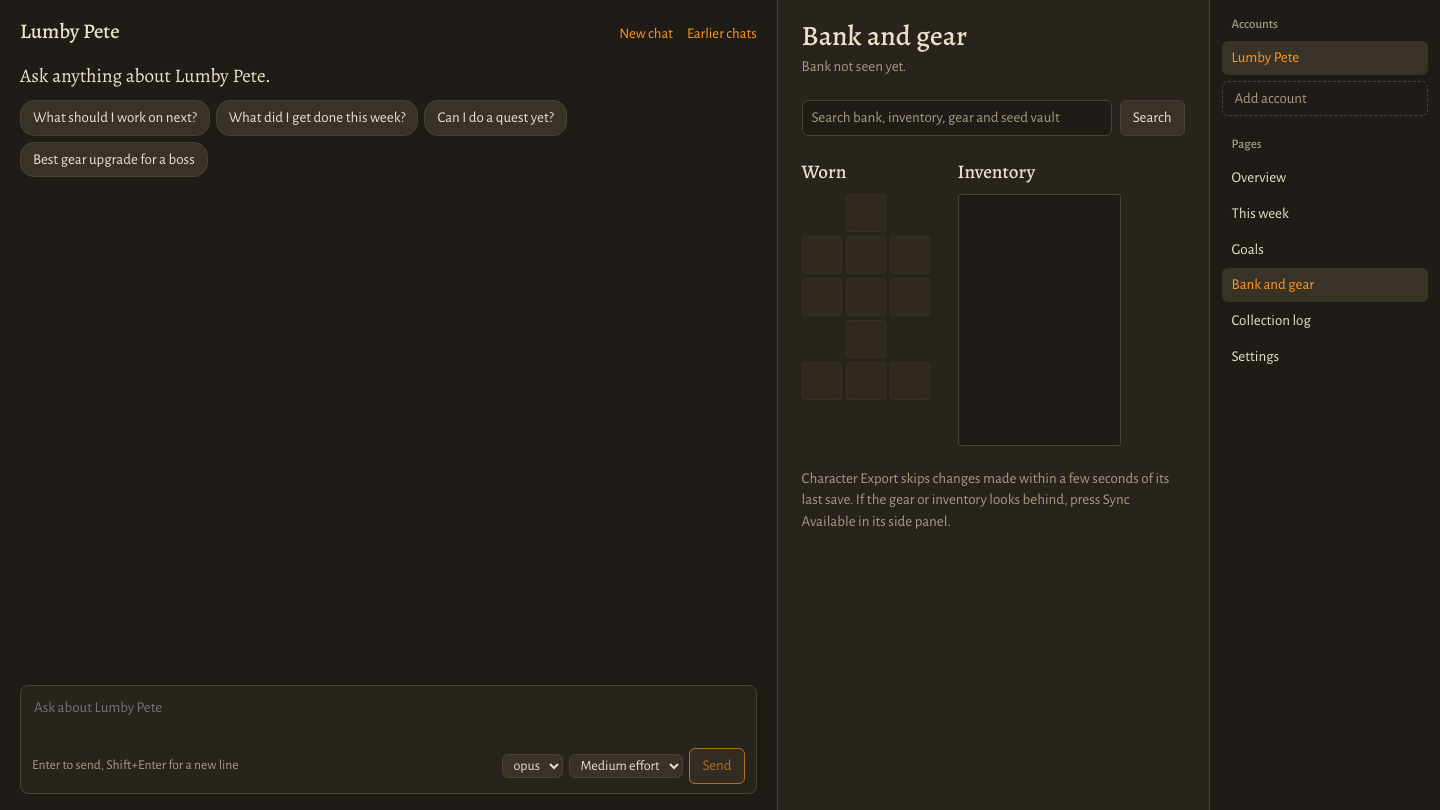
BankGear › names only the places Character Export has saved when a search finds nothing
Type "whip" into the search field at [957, 118], box left=802, top=100, right=1112, bottom=136
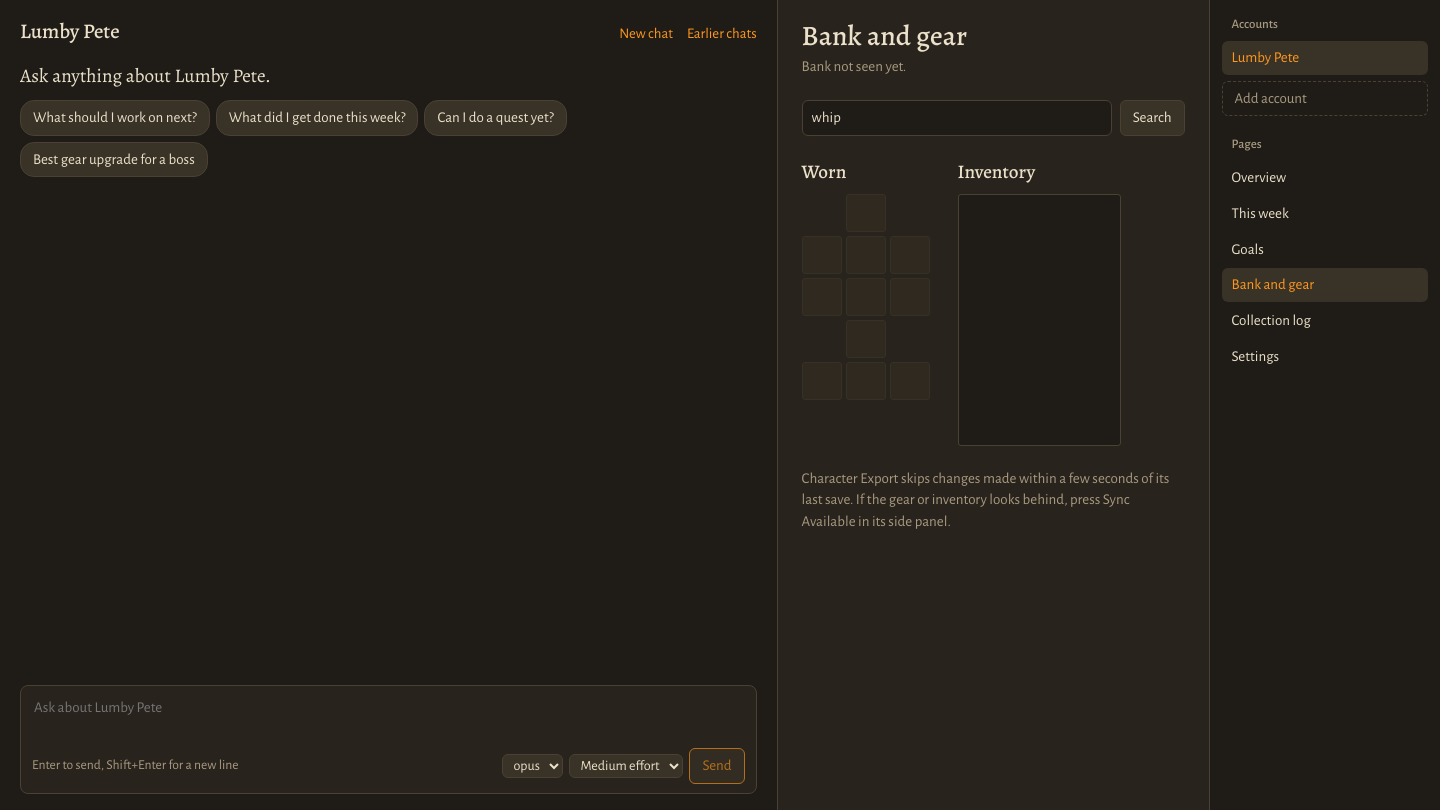
Submit the form from the search field, box left=802, top=100, right=1112, bottom=136
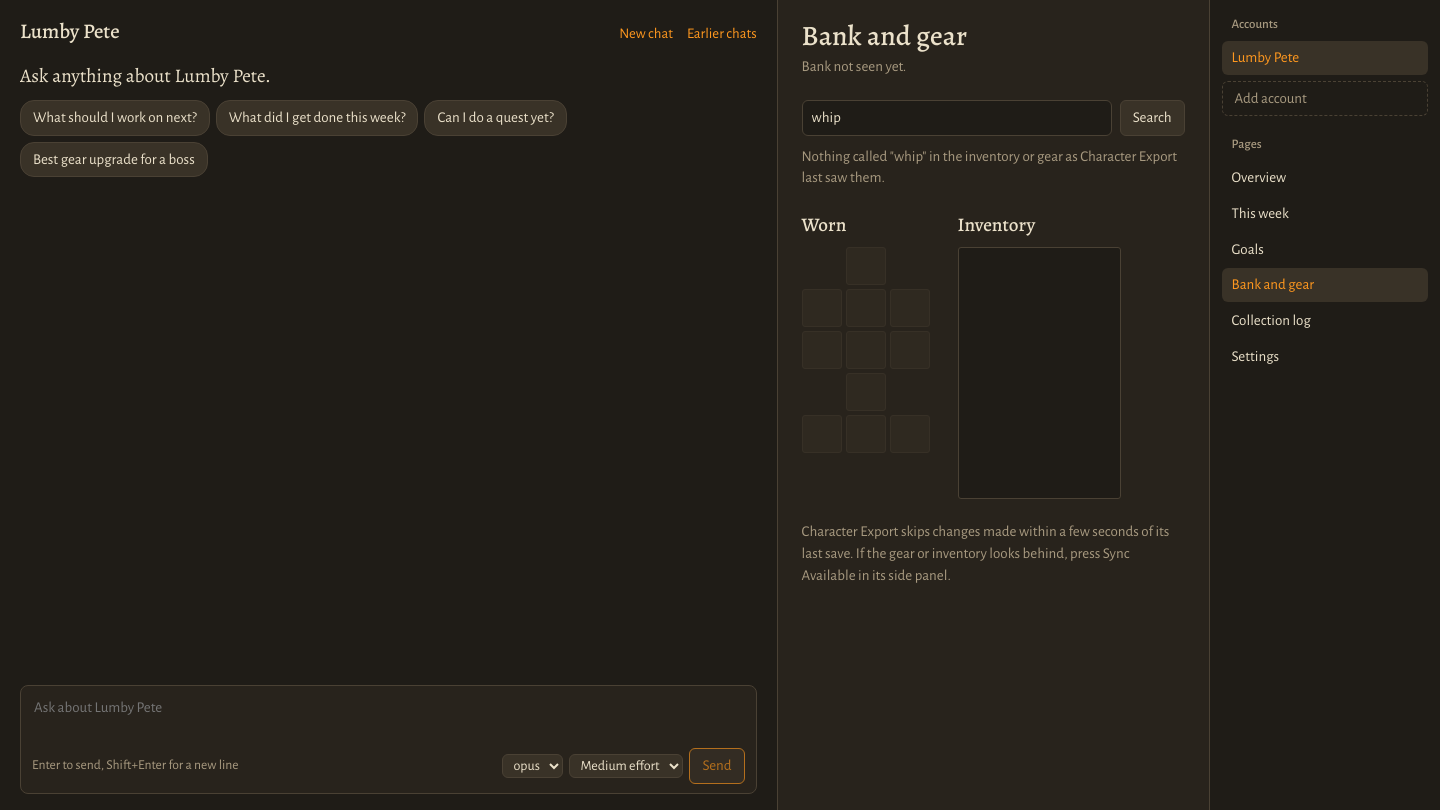
Expected: the text "Nothing called \"whip\" in the inventory or gear as Character Export last saw them." is shown, left=802, top=149, right=1177, bottom=186
Replace the text in the search field with "whips" at [957, 118], box left=802, top=100, right=1112, bottom=136
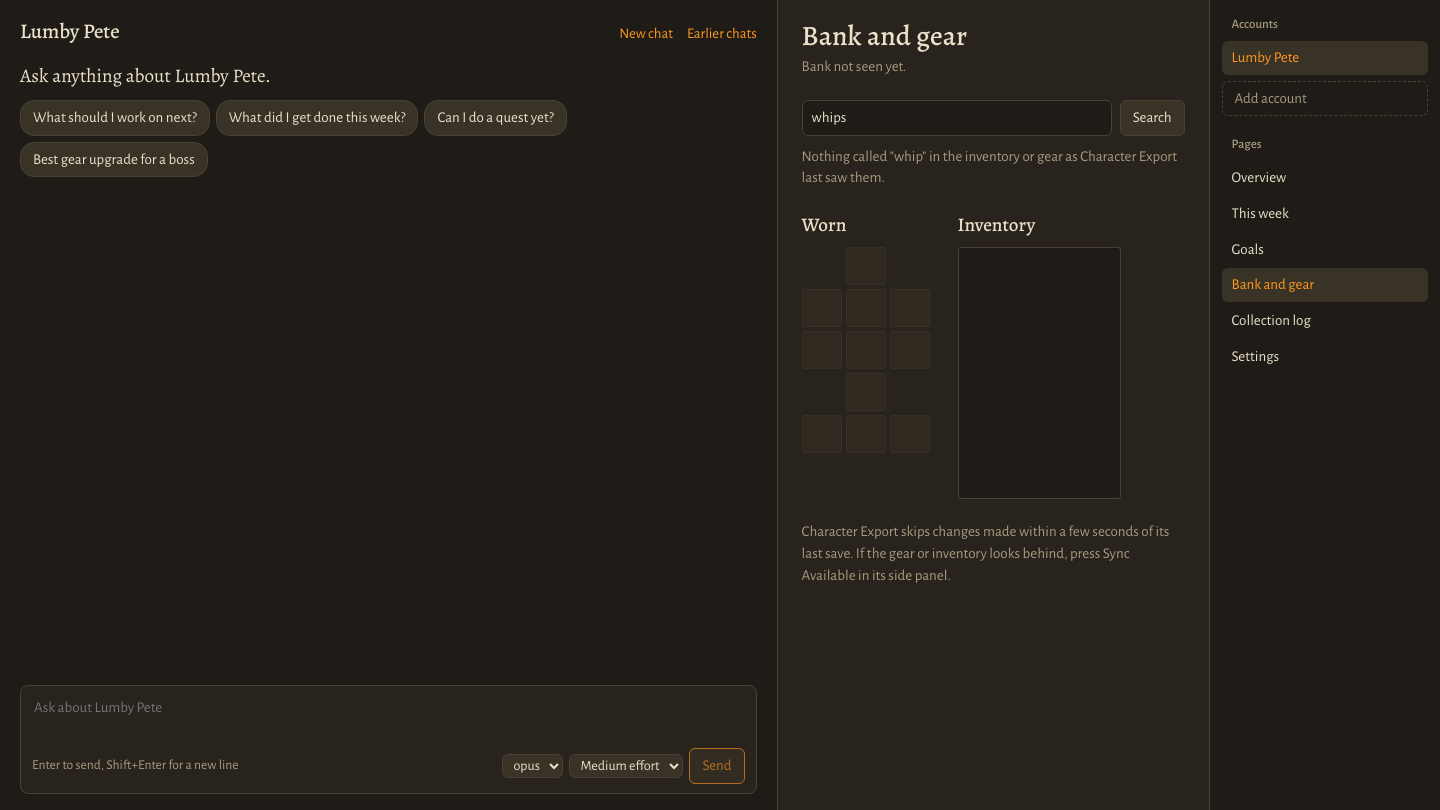
Submit the form from the search field, box left=802, top=100, right=1112, bottom=136
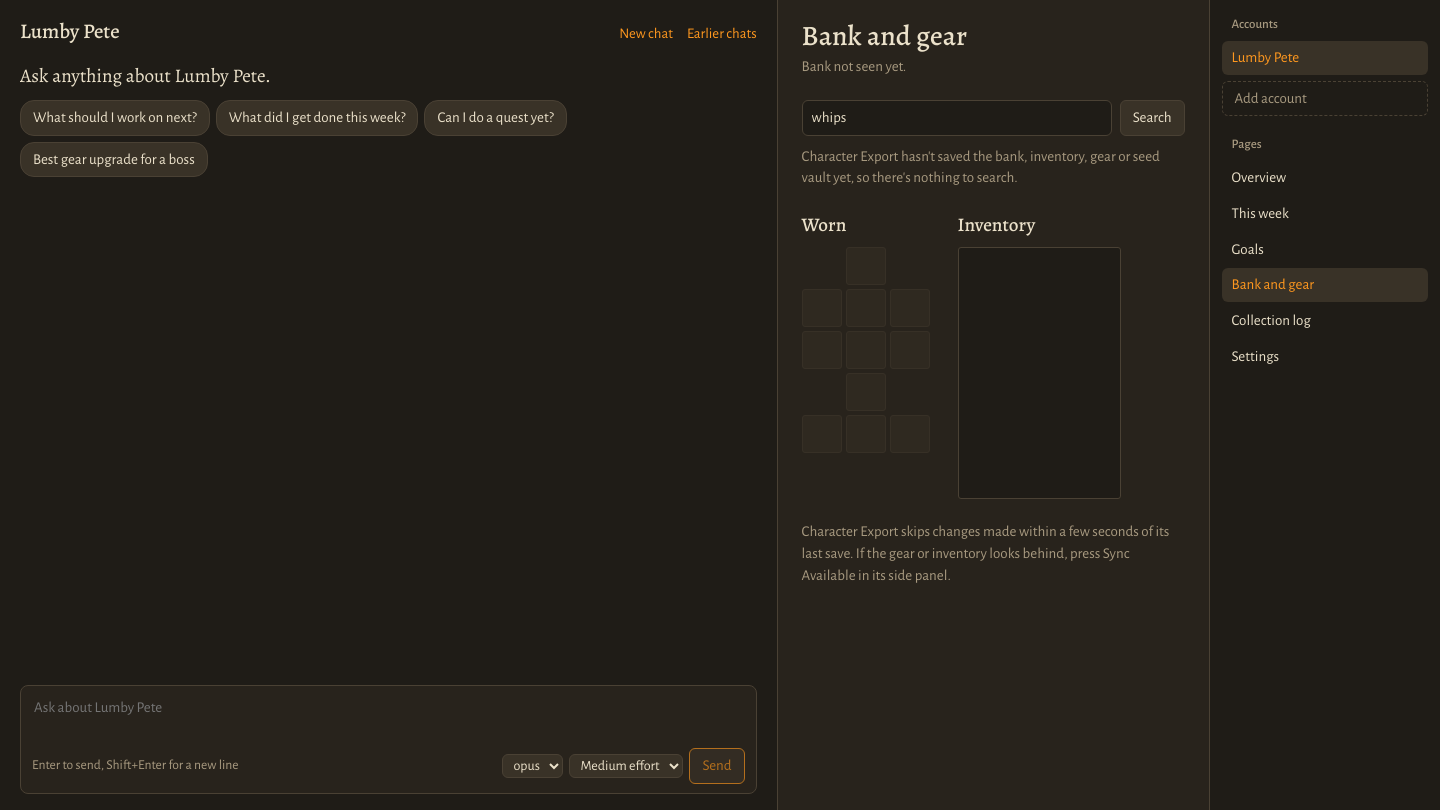
Expected: the text "Character Export hasn't saved the bank, inventory, gear or seed vault yet, so there's nothing to search." is shown, left=802, top=149, right=1160, bottom=186
